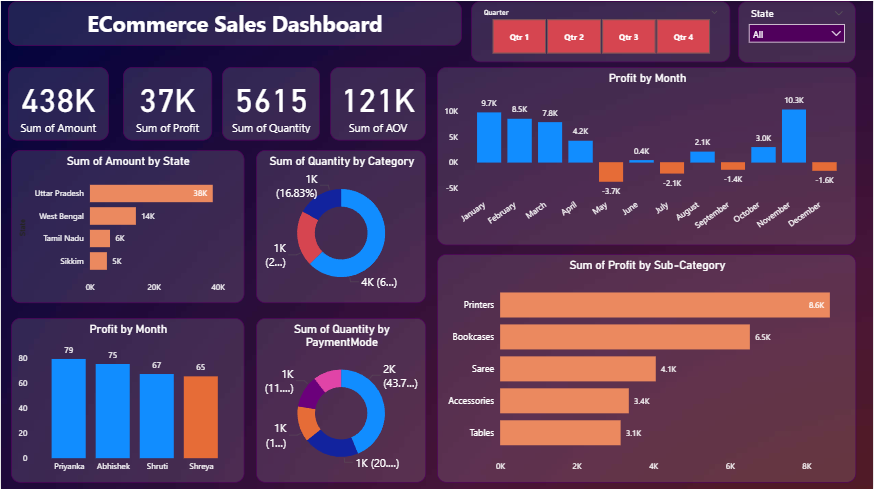

The page's visual inventory and layout, read from the dashboard file:
{"tool":"powerbi","page":{"name":"Page 1","canvas":[1280,720],"ordinal":0},"visuals":[{"type":"textbox","box":[10.1,0,666.9,65.5],"z":0},{"type":"columnChart","title":"Profit by Month","fields":{"Y":["Details.Profit"],"Category":["Orders.Order Date.Variation.Date Hierarchy.Month"]},"box":[640,97.4,616.5,262],"z":1000},{"type":"barChart","fields":{"Category":["Details.Sub-Category"],"Y":["Details.Profit"]},"box":[640,371.2,616.5,336],"z":2000},{"type":"donutChart","fields":{"Category":["Details.Category"],"Y":["Details.Quantity"]},"box":[374.6,218.4,250.3,225.1],"z":3000},{"type":"donutChart","fields":{"Category":["Details.PaymentMode"],"Y":["Details.Quantity"]},"box":[374.6,465.3,250.3,241.9],"z":4000},{"type":"card","fields":{"Values":["Details.Amount"]},"box":[10.1,97.4,147.8,107.5],"z":5000},{"type":"card","fields":{"Values":["Details.AOV"]},"box":[483.8,97.4,141.1,107.5],"z":6000},{"type":"card","fields":{"Values":["Details.Quantity"]},"box":[324.2,97.4,144.5,107.5],"z":7000},{"type":"card","fields":{"Values":["Details.Profit"]},"box":[179.7,97.4,131,107.5],"z":8000},{"type":"barChart","fields":{"Category":["Orders.State"],"Y":["Details.Amount"]},"box":[15.1,218.4,342.7,225.1],"z":9000},{"type":"columnChart","title":"Profit by Month","fields":{"Y":["Details.Quantity"],"Category":["Orders.CustomerName"]},"box":[15.1,465.3,342.7,241.9],"z":10000},{"type":"slicer","fields":{"Values":["Orders.Order Date.Variation.Date Hierarchy.Quarter"]},"box":[690.4,0,381.3,90],"z":11000},{"type":"slicer","fields":{"Values":["Orders.State"]},"box":[1083.5,0,173,90.7],"z":12000}]}

Visuals, with their boxes in screenshot pixels (x1, y1, x2, y2), scaled from the page's 1280x720 canvas onto the 874x489 screenshot:
textbox: (7,0,462,44)
"Profit by Month" columnChart: (437,66,858,244)
barChart - Details.Sub-Category x Details.Profit: (437,252,858,480)
donutChart - Details.Category x Details.Quantity: (256,148,427,301)
donutChart - Details.PaymentMode x Details.Quantity: (256,316,427,480)
card - Details.Amount: (7,66,108,139)
card - Details.AOV: (330,66,427,139)
card - Details.Quantity: (221,66,320,139)
card - Details.Profit: (123,66,212,139)
barChart - Orders.State x Details.Amount: (10,148,244,301)
"Profit by Month" columnChart: (10,316,244,480)
slicer - Orders.Order Date.Variation.Date Hierarchy.Quarter: (471,0,732,61)
slicer - Orders.State: (740,0,858,62)
